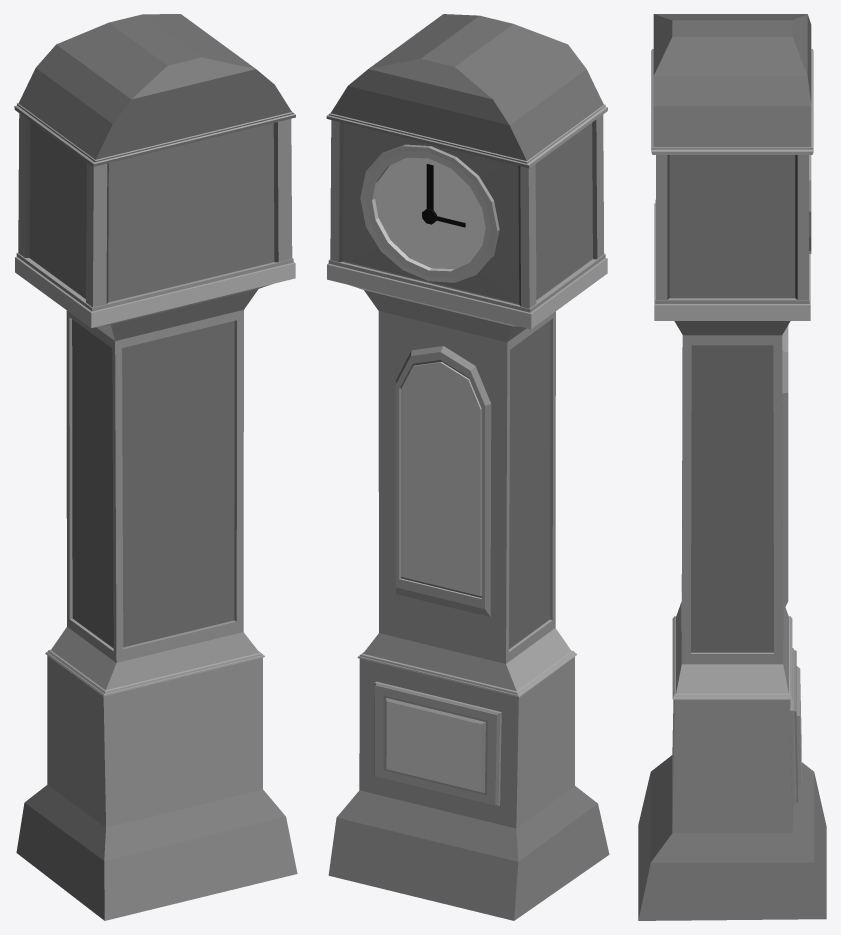
The model's file is GrandfatherClockModel.fbx.
3 renders of one model, left to right at view 1: azimuth 30°, elevation 25°; view 2: azimuth 150°, elevation 25°; view 3: azimuth 270°, elevation 25°, orthographic. The views are drawn at different scales.
Visible parts, largest first — view 1: GrandfatherClockModel; view 2: GrandfatherClockModel; view 3: GrandfatherClockModel.
Boxes of the visible parts, box(x1,y1,x2,y2) form: GrandfatherClockModel: box(14, 14, 297, 920); GrandfatherClockModel: box(326, 14, 609, 920); GrandfatherClockModel: box(638, 14, 826, 920).
Size of the model in its own units: 71.9 by 277 by 55.99.
